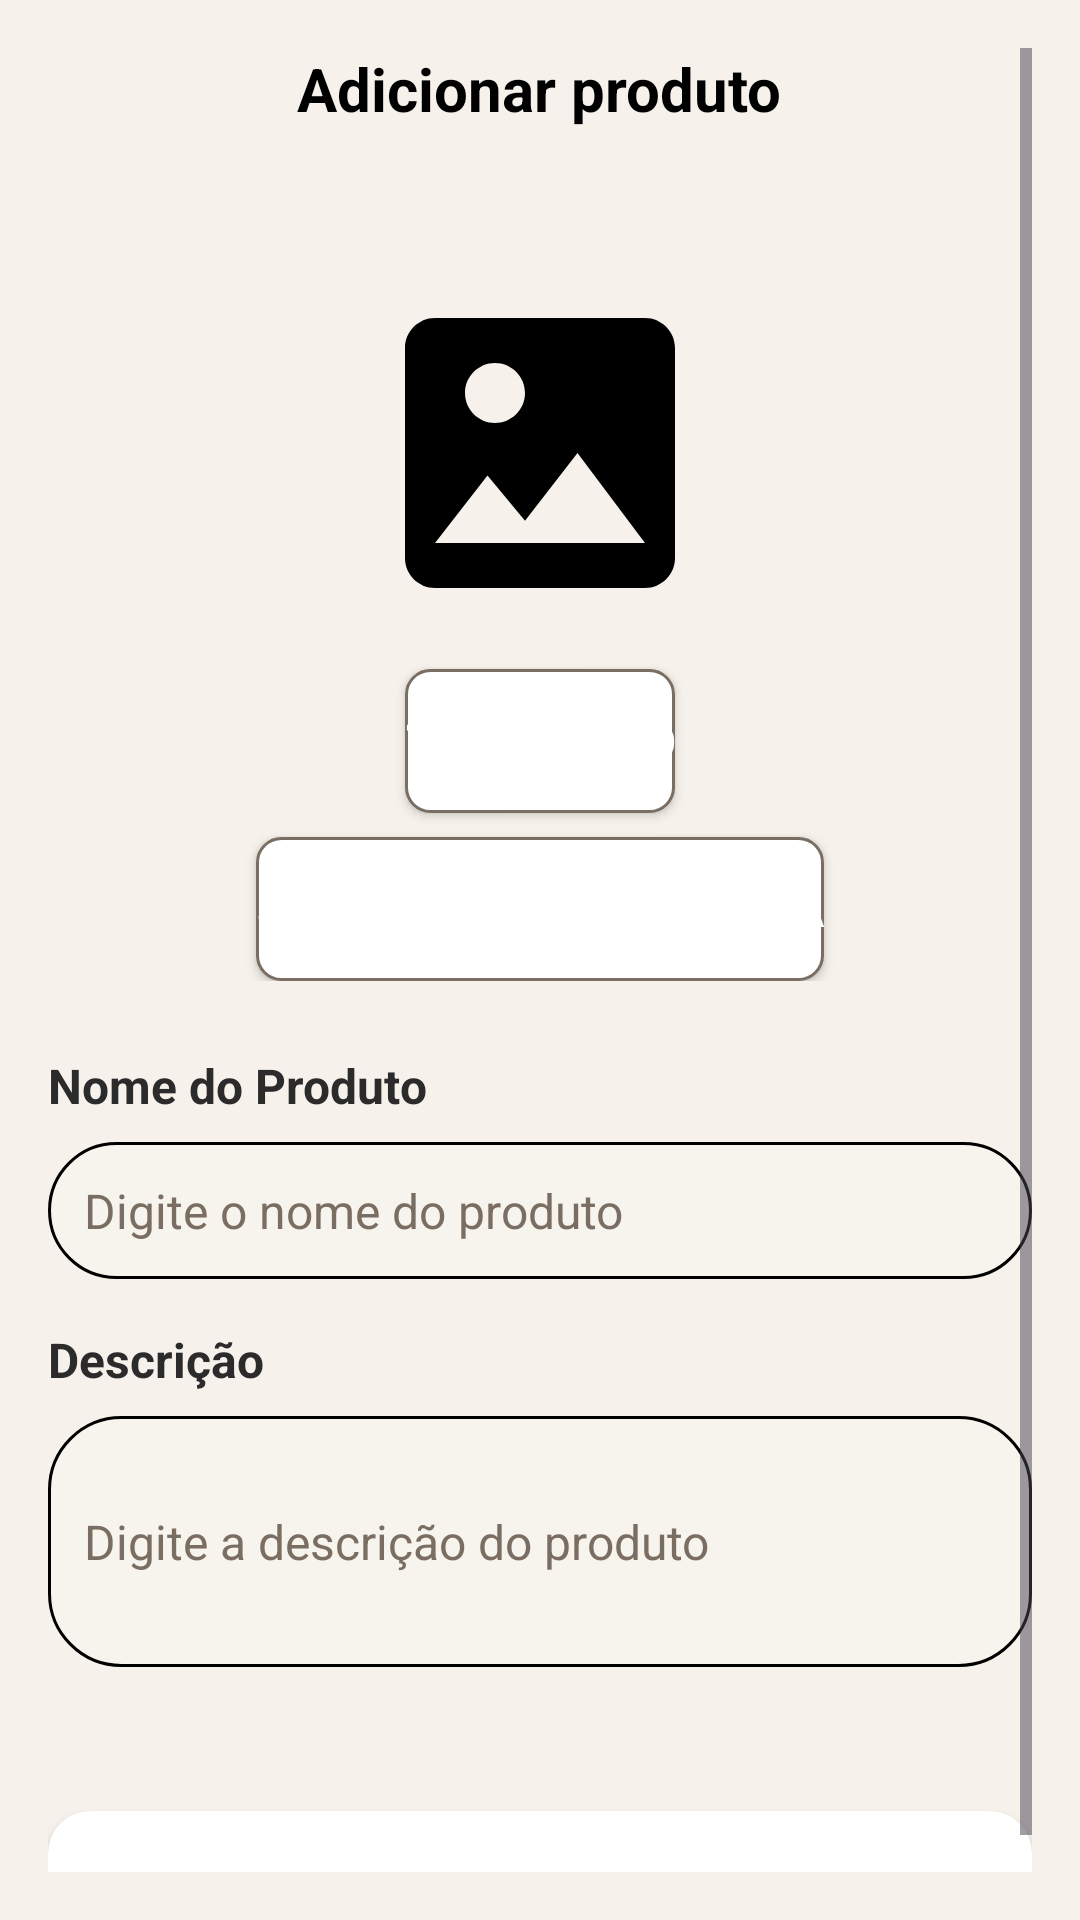

Icons on this 1080*1920 Android screen, each with the point to tap as point (x, y):
Imagem do produto: point (540, 453)
